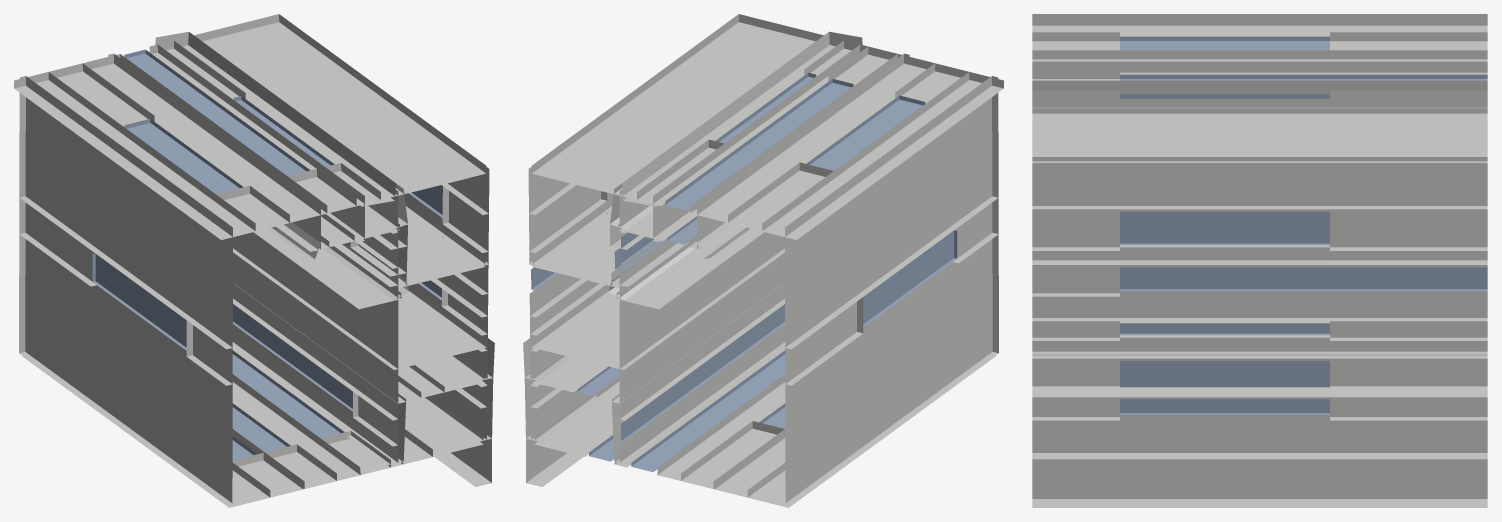
The model's file is plan2scene_vector_house.glb.
3 renders of one model, left to right at view 1: azimuth 30°, elevation 25°; view 2: azimuth 150°, elevation 25°; view 3: azimuth 270°, elevation 25°, orthographic. The views are drawn at different scales.
Visible parts, largest first — view 1: walls, doors_windows; view 2: walls, doors_windows; view 3: walls, doors_windows.
Part boxes in pixels (<box>): walls: <box>14,14,494,507</box>; doors_windows: <box>92,49,442,460</box>; walls: <box>523,14,1003,507</box>; doors_windows: <box>531,72,957,472</box>; walls: <box>1032,14,1487,507</box>; doors_windows: <box>1120,36,1487,414</box>.
Size of the model in its own units: 198 by 225 by 260.
